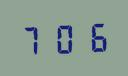seven: (18, 22, 47, 56)
six: (79, 19, 108, 53)
zero: (49, 20, 78, 55)
